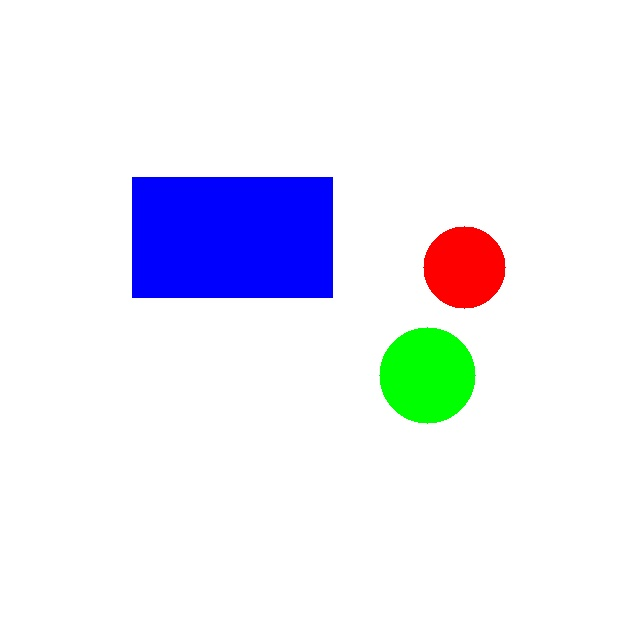cartao: (132, 177, 332, 297)
rosca_externa: (379, 327, 475, 423)
rosca_interna: (423, 226, 505, 308)
